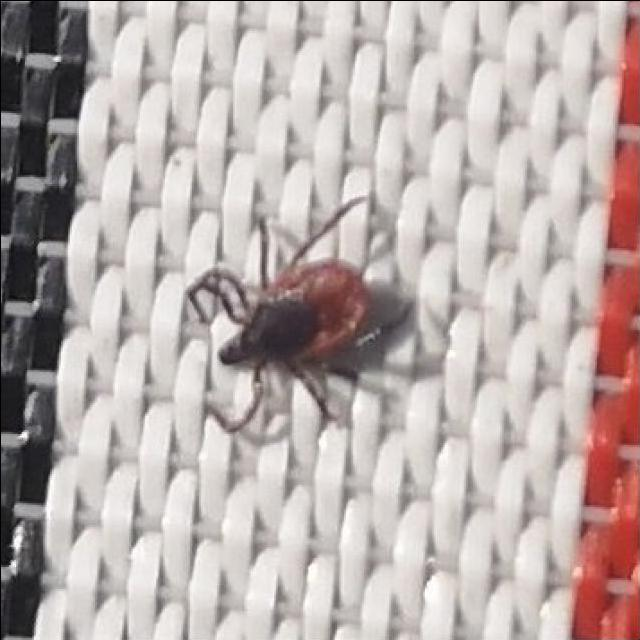Ixodes Ricinus-F: (185, 195, 414, 434)
